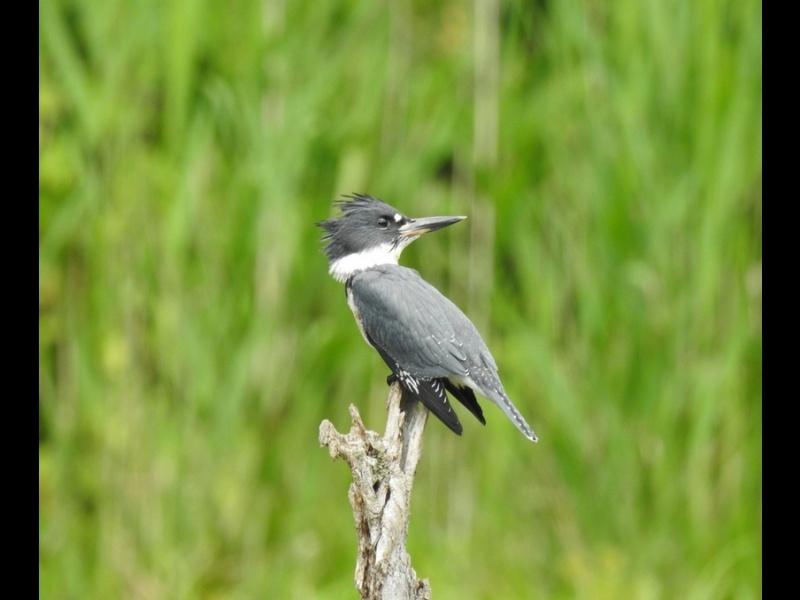kingfisher: (312, 183, 547, 455)
